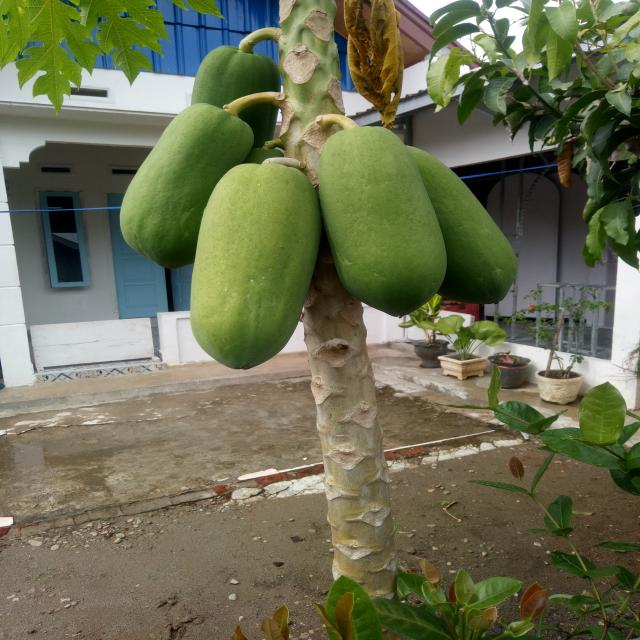Pepaya unrippen: (191, 168, 316, 380), (116, 108, 252, 270), (322, 127, 436, 316), (414, 150, 525, 308), (190, 47, 288, 128)
